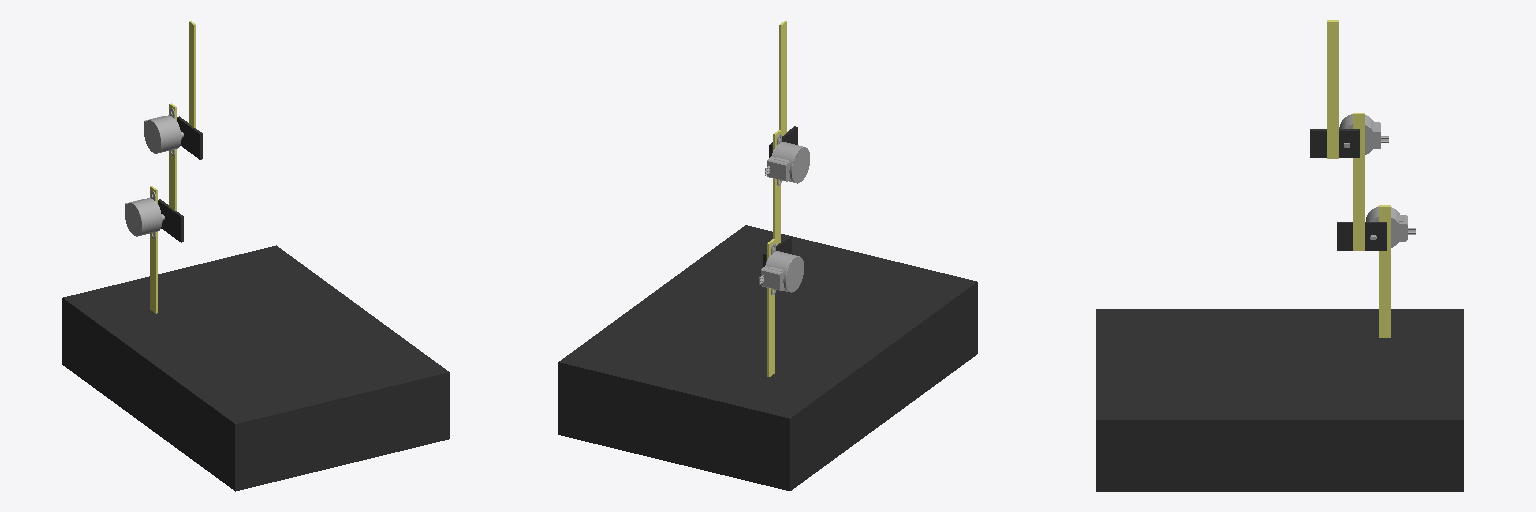
The robot description file, URDF, robot "popsicle_bot":
<?xml version="1.0" ?>
<!-- =================================================================================== -->
<!-- |    This document was autogenerated by xacro from popsicle_bot.xacro             | -->
<!-- |    EDITING THIS FILE BY HAND IS NOT RECOMMENDED                                 | -->
<!-- =================================================================================== -->
<!--
Popsicle stick robot
Copyright (C) 2015  [author]

This program is free software: you can redistribute it and/or modify
it under the terms of the GNU General Public License as published by
the Free Software Foundation, either version 3 of the License, or
(at your option) any later version.

This program is distributed in the hope that it will be useful,
but WITHOUT ANY WARRANTY; without even the implied warranty of
MERCHANTABILITY or FITNESS FOR A PARTICULAR PURPOSE.  See the
GNU General Public License for more details.

You should have received a copy of the GNU General Public License
along with this program.  If not, see <http://www.gnu.org/licenses/>.
-->
<robot name="popsicle_bot" xmlns:xacro="http://www.ros.org/wiki/xacro">
  <link name="base_link">
    <visual>
      <geometry>
        <box size="0.2 0.28 0.06"/>
      </geometry>
      <origin xyz="0.1 -0.14 0.03"/>
      <material name="black">
        <color rgba="0.25 0.25 0.25 1"/>
      </material>
    </visual>
  </link>
  <joint name="base_to_main_stand" type="fixed">
    <parent link="base_link"/>
    <child link="main_stand"/>
    <origin xyz="0.051 -0.06 0.06"/>
  </joint>
  <link name="main_stand">
    <visual>
      <geometry>
        <box size="0.002 0.009 0.11"/>
      </geometry>
      <origin xyz="0 0 0.055"/>
      <material name="popsicle">
        <color rgba="0.9 0.9 0.5 1"/>
      </material>
    </visual>
  </link>
  <joint name="main_stand_to_motor_1" type="fixed">
    <parent link="main_stand"/>
    <child link="motor_1"/>
    <origin xyz="-0.001 -0.001 0.087"/>
  </joint>
  <link name="motor_1">
    <visual>
      <geometry>
        <mesh filename="package://popsicle_arm/urdf/Stepper_motor_28BYJ-48.stl" scale="0.001 0.001 0.001"/>
      </geometry>
      <origin rpy="0.0 1.57079632679 -1.57079632679" xyz="-0.019 0.024 0.021"/>
      <material name="motor">
        <color rgba="0.7 0.7 0.7 1"/>
      </material>
    </visual>
  </link>
  <joint name="motor_1_to_plastic_1" type="continuous">
    <parent link="motor_1"/>
    <child link="plastic_1"/>
    <axis xyz="1 0 0"/>
    <origin xyz="0.006 -0.008 0.0"/>
  </joint>
  <link name="plastic_1">
    <visual>
      <geometry>
        <box size="0.0027 0.038 0.023"/>
      </geometry>
      <origin xyz="0.0 -0.009 0"/>
      <material name="black">
        <color rgba="0.25 0.25 0.25 1"/>
      </material>
    </visual>
  </link>
  <joint name="plastic_1_to_m1_arm" type="fixed">
    <parent link="plastic_1"/>
    <child link="m1_arm"/>
    <origin xyz="0.00135 -0.011 -0.0115"/>
  </joint>
  <link name="m1_arm">
    <visual>
      <geometry>
        <box size="0.002 0.009 0.115"/>
      </geometry>
      <origin xyz="0 0 0.0575"/>
      <material name="popsicle">
        <color rgba="0.9 0.9 0.5 1"/>
      </material>
    </visual>
  </link>
  <joint name="m1_arm_to_motor_2" type="fixed">
    <parent link="m1_arm"/>
    <child link="motor_2"/>
    <origin xyz="-0.001 -0.001 0.092"/>
  </joint>
  <link name="motor_2">
    <visual>
      <geometry>
        <mesh filename="package://popsicle_arm/urdf/Stepper_motor_28BYJ-48.stl" scale="0.001 0.001 0.001"/>
      </geometry>
      <origin rpy="0.0 1.57079632679 -1.57079632679" xyz="-0.019 0.024 0.021"/>
      <material name="motor">
        <color rgba="0.7 0.7 0.7 1"/>
      </material>
    </visual>
  </link>
  <joint name="motor_2_to_plastic_2" type="continuous">
    <parent link="motor_2"/>
    <child link="plastic_2"/>
    <axis xyz="1 0 0"/>
    <origin xyz="0.006 -0.008 0.0"/>
  </joint>
  <link name="plastic_2">
    <visual>
      <geometry>
        <box size="0.0027 0.038 0.023"/>
      </geometry>
      <origin xyz="0.0 -0.009 0"/>
      <material name="black">
        <color rgba="0.25 0.25 0.25 1"/>
      </material>
    </visual>
  </link>
  <joint name="plastic_2_to_m2_arm" type="fixed">
    <parent link="plastic_2"/>
    <child link="m2_arm"/>
    <origin xyz="0.00135 -0.011 -0.0115"/>
  </joint>
  <link name="m2_arm">
    <visual>
      <geometry>
        <box size="0.002 0.009 0.115"/>
      </geometry>
      <origin xyz="0 0 0.0575"/>
      <material name="popsicle">
        <color rgba="0.9 0.9 0.5 1"/>
      </material>
    </visual>
  </link>
</robot>

--- Facts derived from the render (not from the file) ---
3 views of the same robot in one strip: view 1: azimuth 30°, elevation 25°; view 2: azimuth 150°, elevation 25°; view 3: azimuth 270°, elevation 25° (orthographic).
Model popsicle_bot with 8 links and 7 joints (2 continuous, 5 fixed), rooted at base_link, posed all joints at 0.
Visible links, largest first — view 1: base_link, motor_2, motor_1, m2_arm, main_stand, plastic_1, plastic_2; view 2: base_link, motor_1, motor_2, m2_arm, main_stand, m1_arm; view 3: base_link, m2_arm, m1_arm, main_stand, plastic_2, plastic_1, motor_1, motor_2.
Link boxes in pixels (<box>): base_link: <box>62,245,449,491</box>; motor_2: <box>144,108,183,155</box>; motor_1: <box>125,191,164,238</box>; m2_arm: <box>189,21,195,127</box>; main_stand: <box>150,186,157,313</box>; plastic_1: <box>158,199,183,242</box>; plastic_2: <box>177,116,202,159</box>; base_link: <box>558,225,977,490</box>; motor_1: <box>759,243,803,294</box>; motor_2: <box>765,134,809,185</box>; m2_arm: <box>779,21,786,135</box>; main_stand: <box>767,239,774,376</box>; m1_arm: <box>773,130,780,245</box>; base_link: <box>1096,309,1463,491</box>; m2_arm: <box>1327,20,1338,158</box>; m1_arm: <box>1353,113,1364,250</box>; main_stand: <box>1379,205,1390,337</box>; plastic_2: <box>1310,129,1359,157</box>; plastic_1: <box>1337,222,1386,250</box>; motor_1: <box>1366,206,1415,247</box>; motor_2: <box>1339,114,1388,154</box>.
Bounding box of the posed robot: 0.2 × 0.28 × 0.331 m (x, y, z).
2 mesh visuals loaded from 1 distinct referenced files (1 binary STL).
